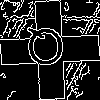Q: (25, 25, 66, 76)
